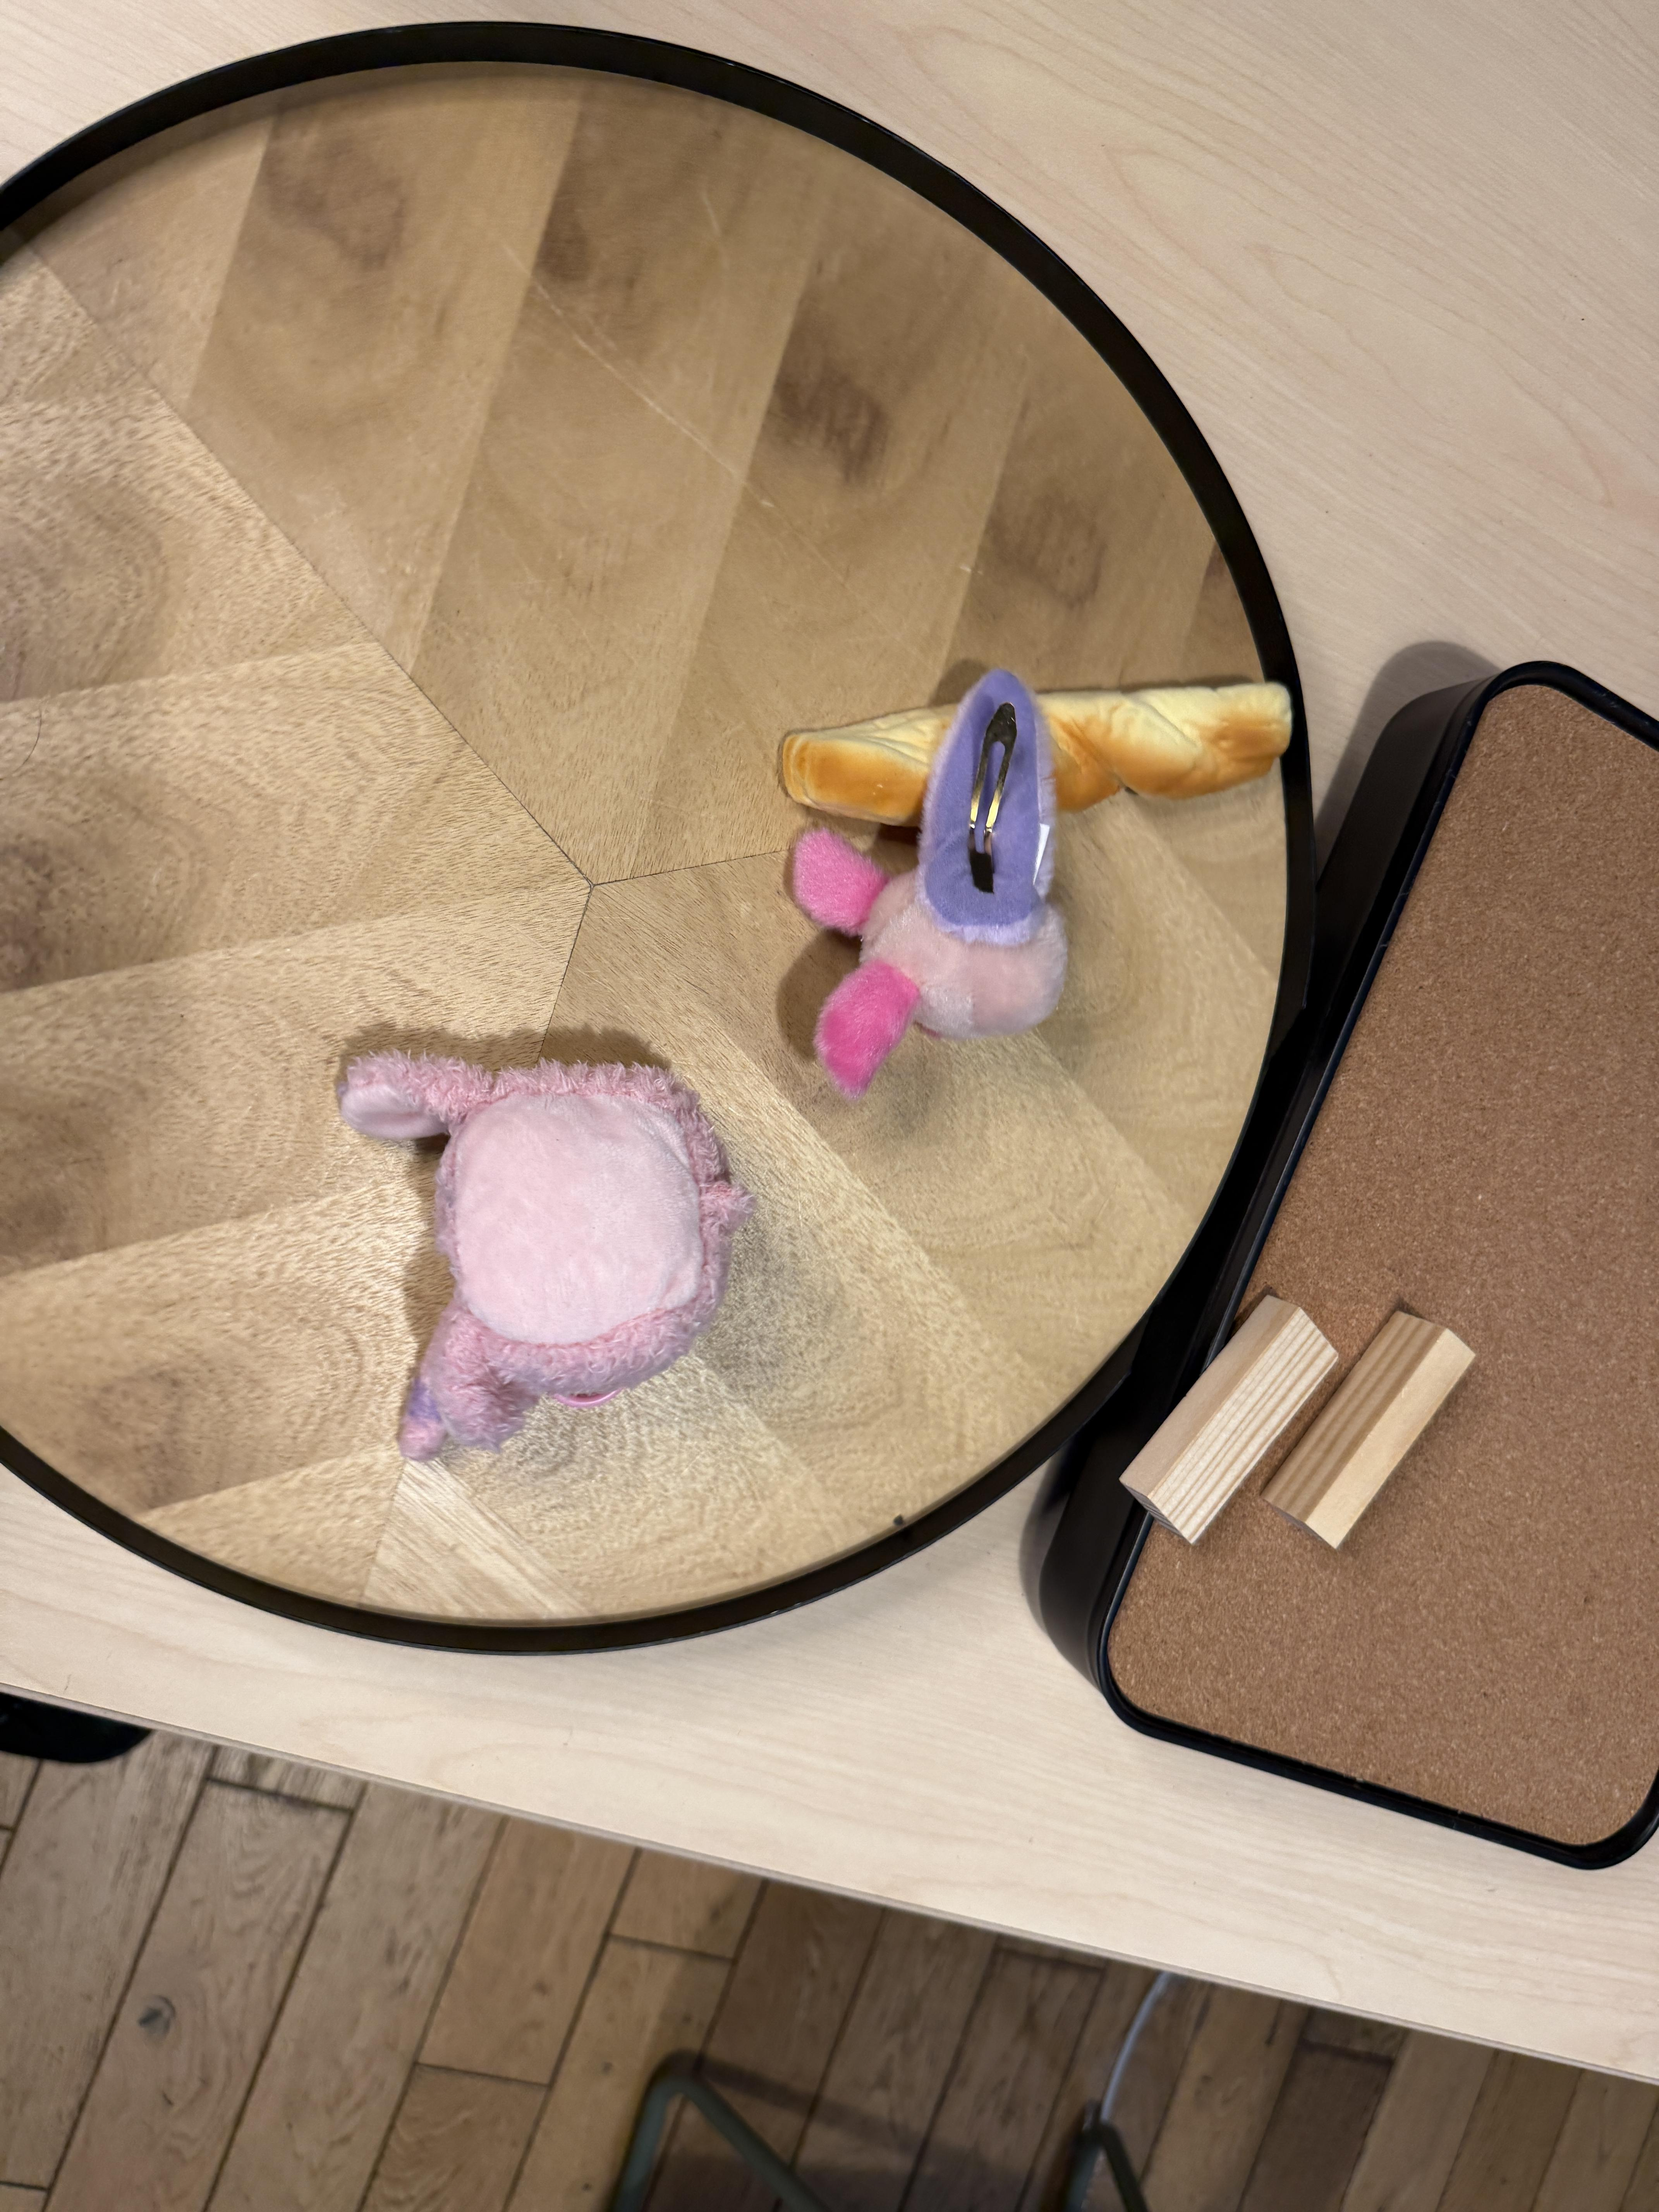block: (1127, 1301, 1344, 1564), (1274, 1313, 1476, 1554)
doll: (326, 1042, 739, 1456), (802, 678, 1075, 1080), (782, 678, 1300, 824)
